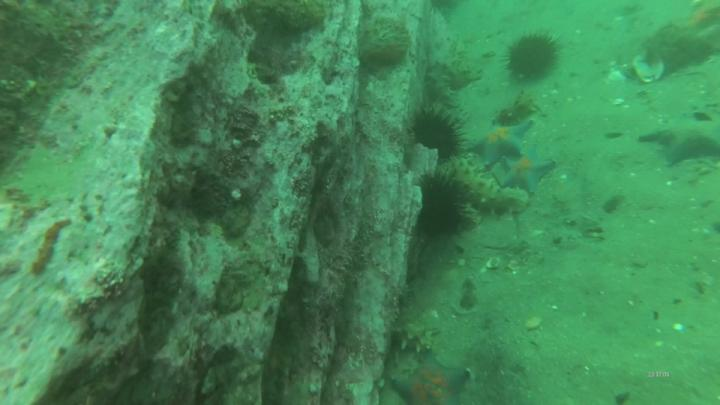echinus: (407, 100, 472, 166), (418, 170, 472, 242), (497, 33, 566, 86)
holothurian: (449, 160, 527, 216), (421, 49, 488, 102), (386, 306, 441, 353), (496, 87, 542, 129)
starfish: (384, 346, 473, 404), (639, 111, 720, 171), (470, 119, 533, 169), (499, 152, 558, 198)
